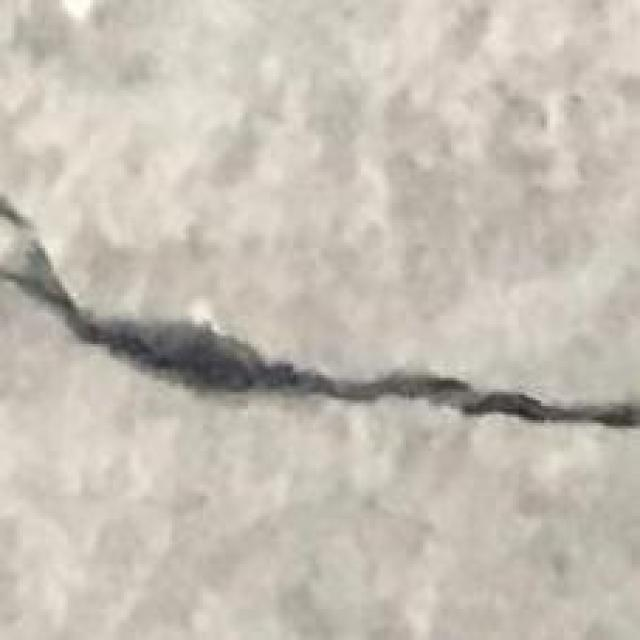Transverse: (0, 186, 640, 446)
